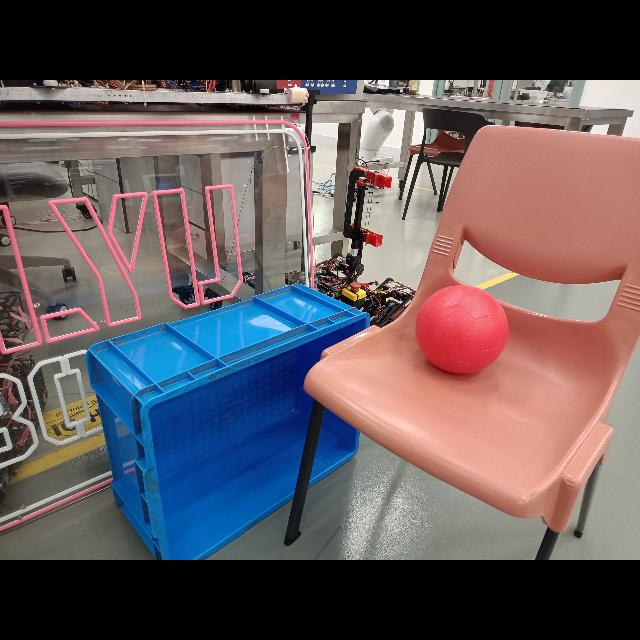R: (417, 284, 511, 382)
